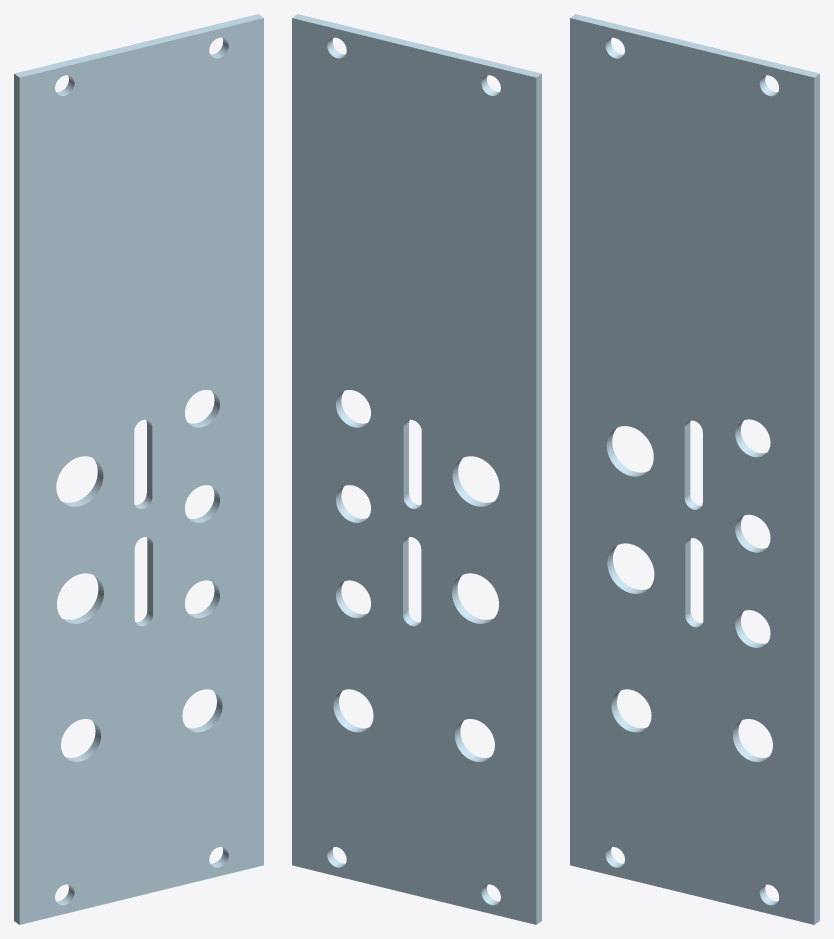
The model's file is panel.gltf.
3 renders of one model, left to right at view 1: azimuth 30°, elevation 25°; view 2: azimuth 150°, elevation 25°; view 3: azimuth 330°, elevation 25°, orthographic.
Parts seen in each view (by area): view 1: Panel; view 2: Panel; view 3: Panel.
Boxes of the visible parts, x1,y1,x2,y2 form: Panel: [14, 14, 263, 924]; Panel: [292, 14, 541, 924]; Panel: [570, 14, 819, 924].
Size of the model in its own units: 0.0402 by 0.1333 by 0.00159.
